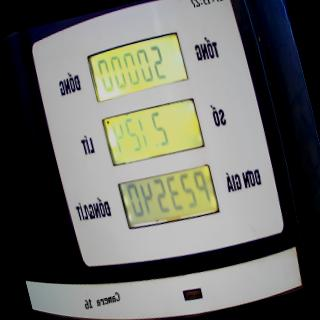screen: (82, 24, 223, 239)
